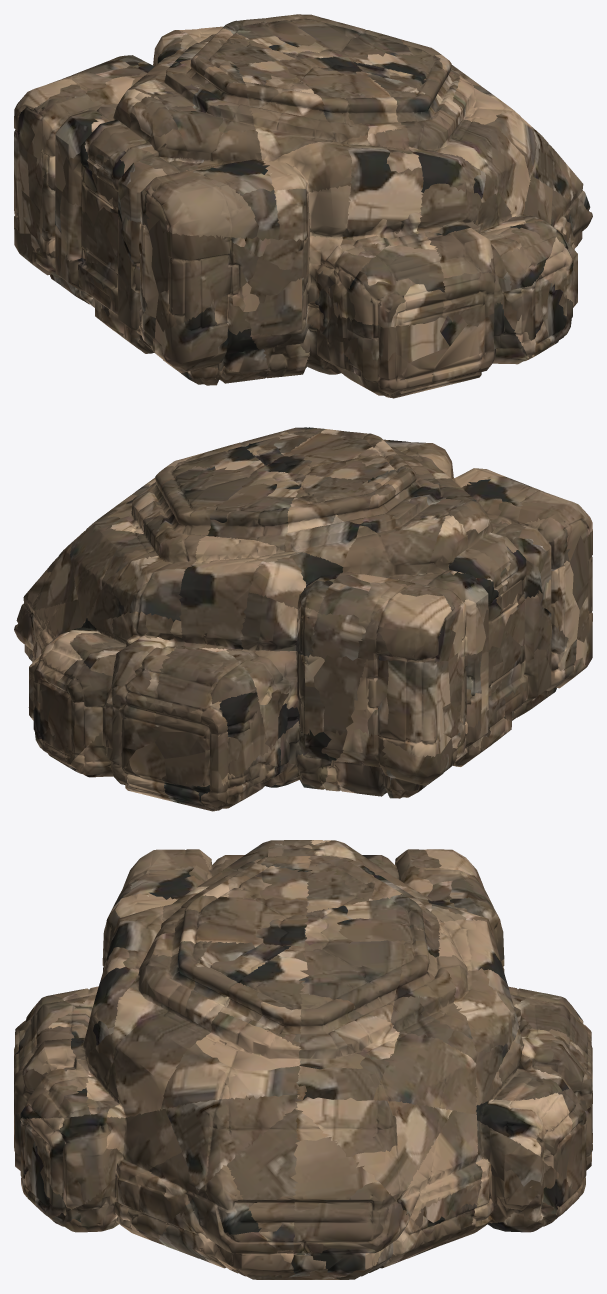
The model's file is arc-mortar-lean.glb.
The picture shows the model from 3 angles, top to bottom: view 1: azimuth 30°, elevation 25°; view 2: azimuth 150°, elevation 25°; view 3: azimuth 270°, elevation 25°; orthographic projection. The views are drawn at different scales.
Parts seen in each view (by area): view 1: chassis; view 2: chassis; view 3: chassis.
Boxes of the visible parts, x1,y1,x2,y2 form: chassis: [14, 14, 592, 398]; chassis: [14, 427, 592, 811]; chassis: [14, 840, 592, 1279].
Size of the model in its own units: 0.9573 by 0.495 by 0.9899.
1 material, 1 textured.
